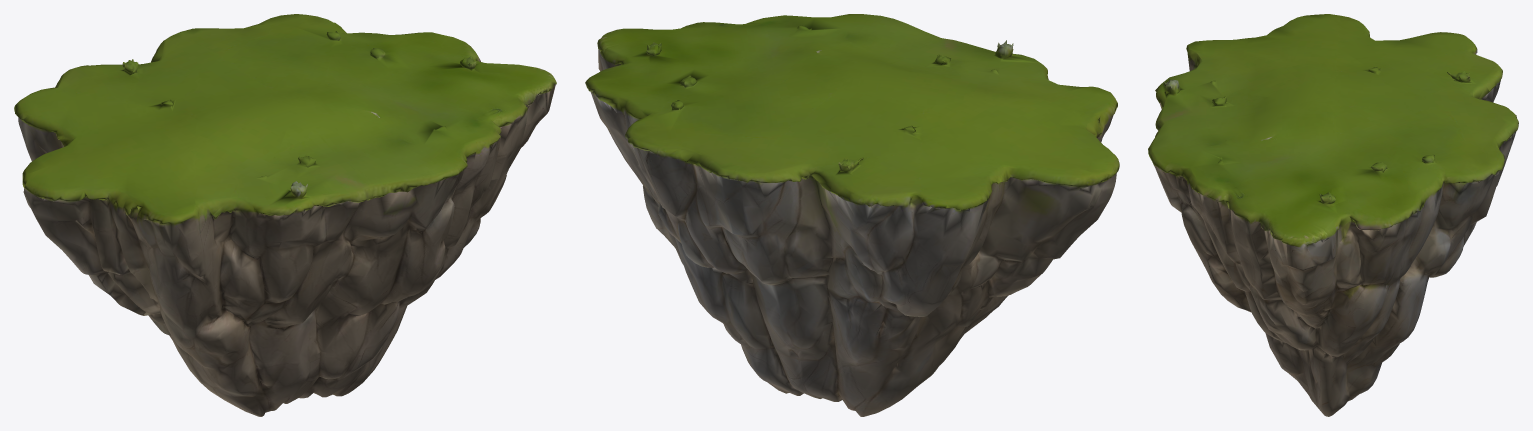
Rendered from island.glb.
The picture shows the model from 3 angles, left to right: view 1: azimuth 30°, elevation 25°; view 2: azimuth 150°, elevation 25°; view 3: azimuth 270°, elevation 25°; orthographic projection. The views are drawn at different scales.
Visible parts, largest first — view 1: tripo_node_316e7ab0-cb47-4dd1-85cb-22bef759c491; view 2: tripo_node_316e7ab0-cb47-4dd1-85cb-22bef759c491; view 3: tripo_node_316e7ab0-cb47-4dd1-85cb-22bef759c491.
Part boxes in pixels (x1=…): tripo_node_316e7ab0-cb47-4dd1-85cb-22bef759c491: x1=14, y1=14, x2=556, y2=416; tripo_node_316e7ab0-cb47-4dd1-85cb-22bef759c491: x1=585, y1=14, x2=1119, y2=416; tripo_node_316e7ab0-cb47-4dd1-85cb-22bef759c491: x1=1148, y1=14, x2=1518, y2=416.
Bounding box in the file's own units: 5.04 × 3 × 3.49.
1 material, 1 textured.
